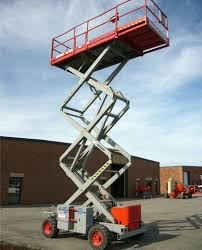Scissor Lift: (38, 1, 172, 250)
